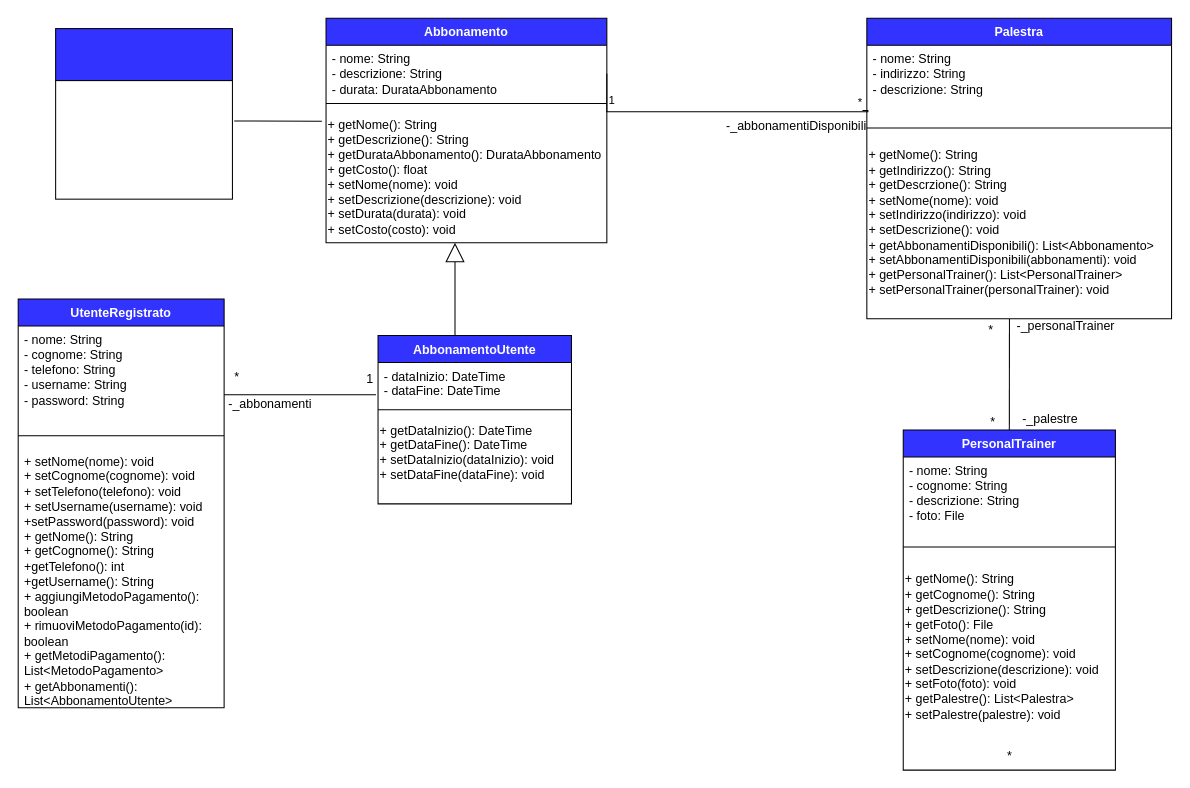
This 1190x788 diagram has some shape labels left out. The shapes that lost their labels are listed below. From the top down, each one's centre as x and y in pixels, then its label:
At point 143,54: "«enumeration» DurataAbboanamento".
At point 143,139: "settimanale mensile bimestrale trimestrale semestrale annuale".
